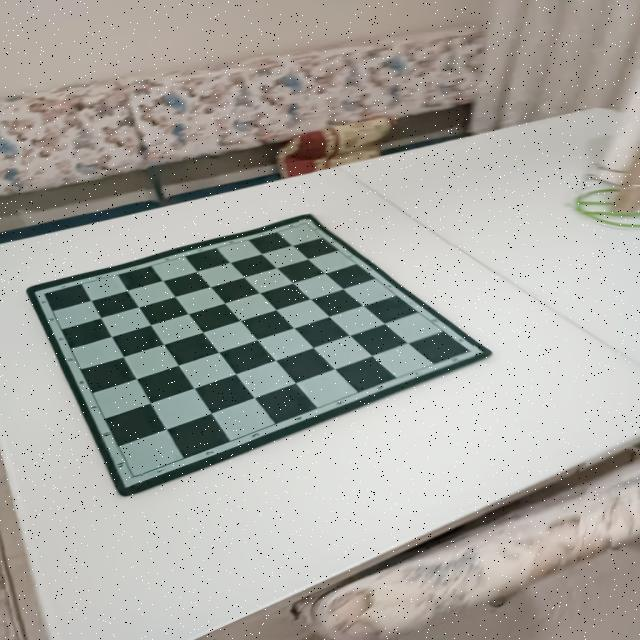corner: (461, 344, 478, 359), (124, 471, 143, 484), (299, 218, 315, 230), (39, 289, 51, 299)
